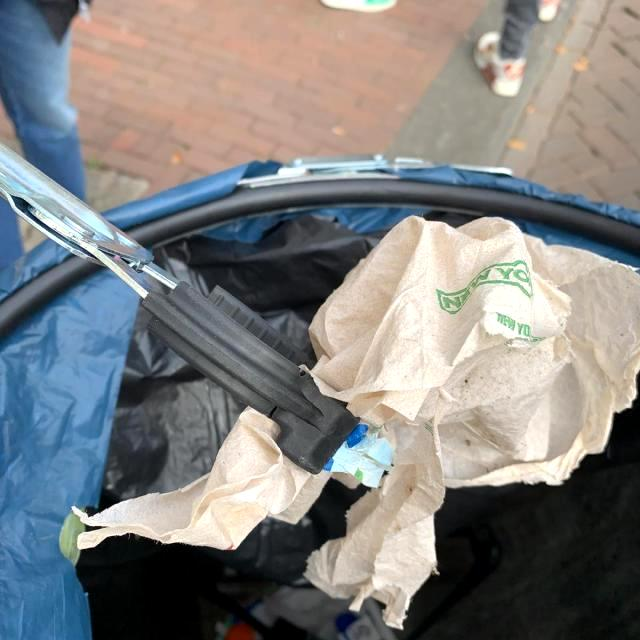Paper: (70, 212, 640, 630)
